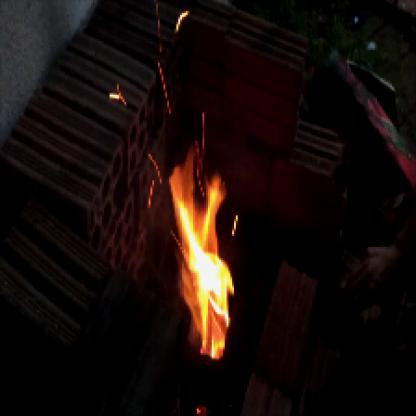Fire: (169, 122, 238, 370)
